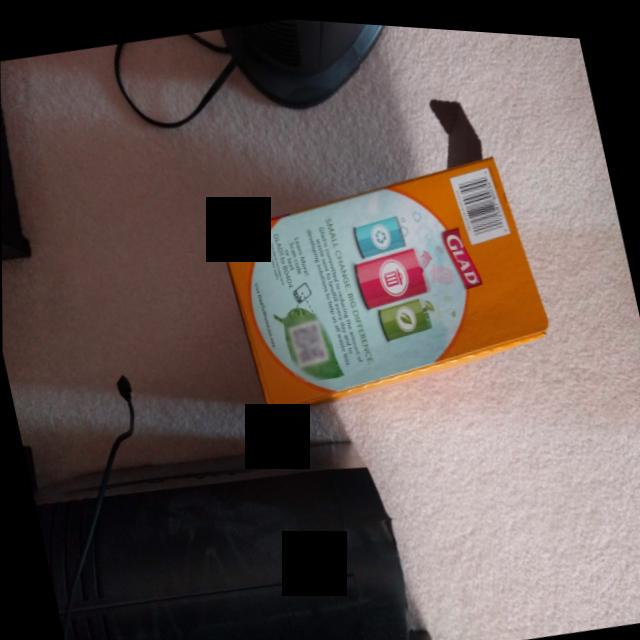QR_CODE: (281, 304, 339, 381)
